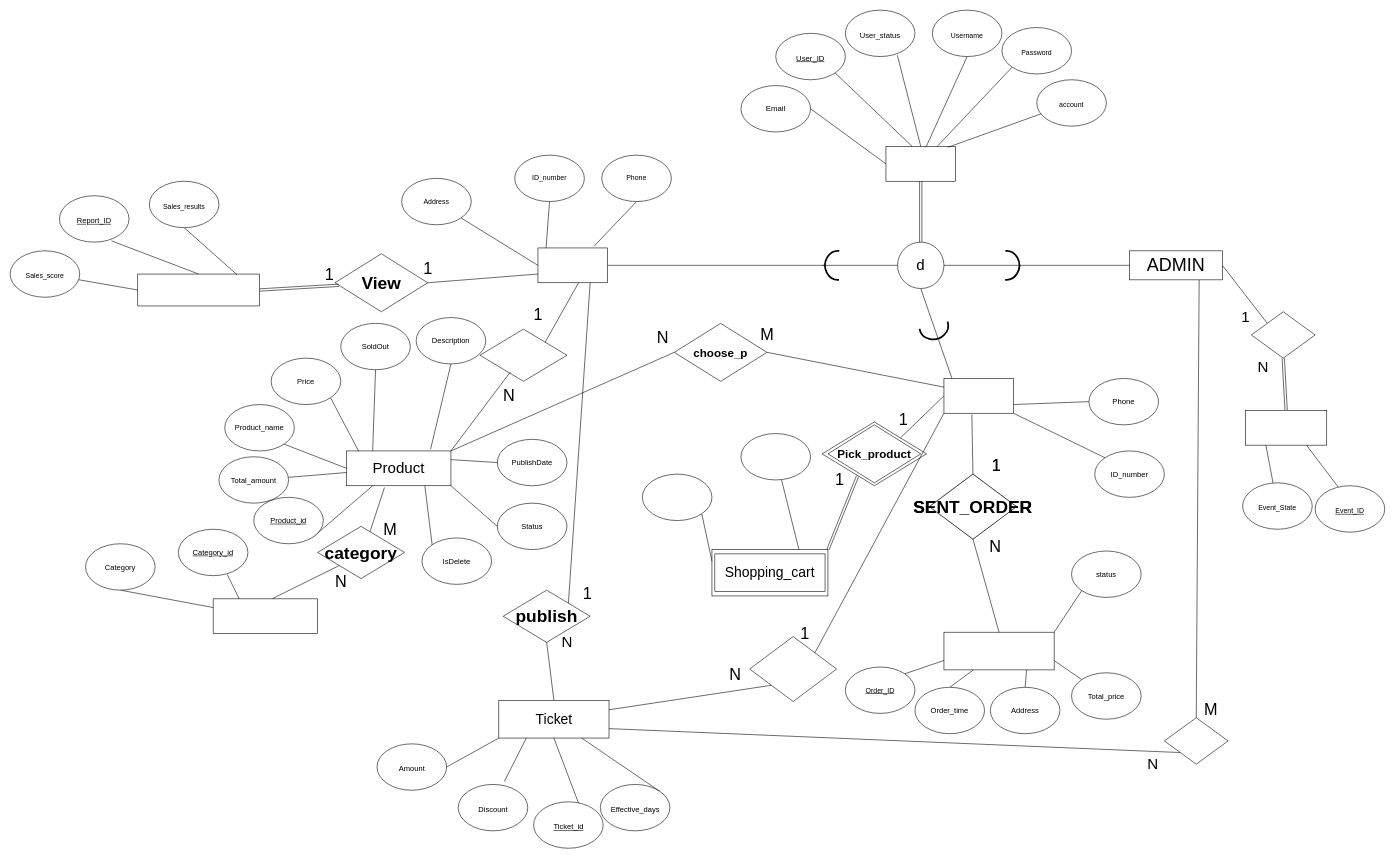
Some shapes in this 1395 by 858 pixel diagram are drawn without their labels. Each missing label, with the centre of its shape:
"Customer" belongs at (x=978, y=395).
"Has_ticket" belongs at (x=793, y=669).
"Item_count" belongs at (x=677, y=497).
"LABEL" belongs at (x=265, y=616).
"manage_t" belongs at (x=1196, y=740).
"ORDER" belongs at (x=998, y=651).
"sale" belongs at (x=523, y=355).
"Sales report" belongs at (x=198, y=289).
"Seller" belongs at (x=572, y=265).
"TO_DO" belongs at (x=1283, y=334).
"TO_DO_THING" belongs at (x=1286, y=427).
"Total price" belongs at (x=775, y=456).
"User" belongs at (x=920, y=163).
